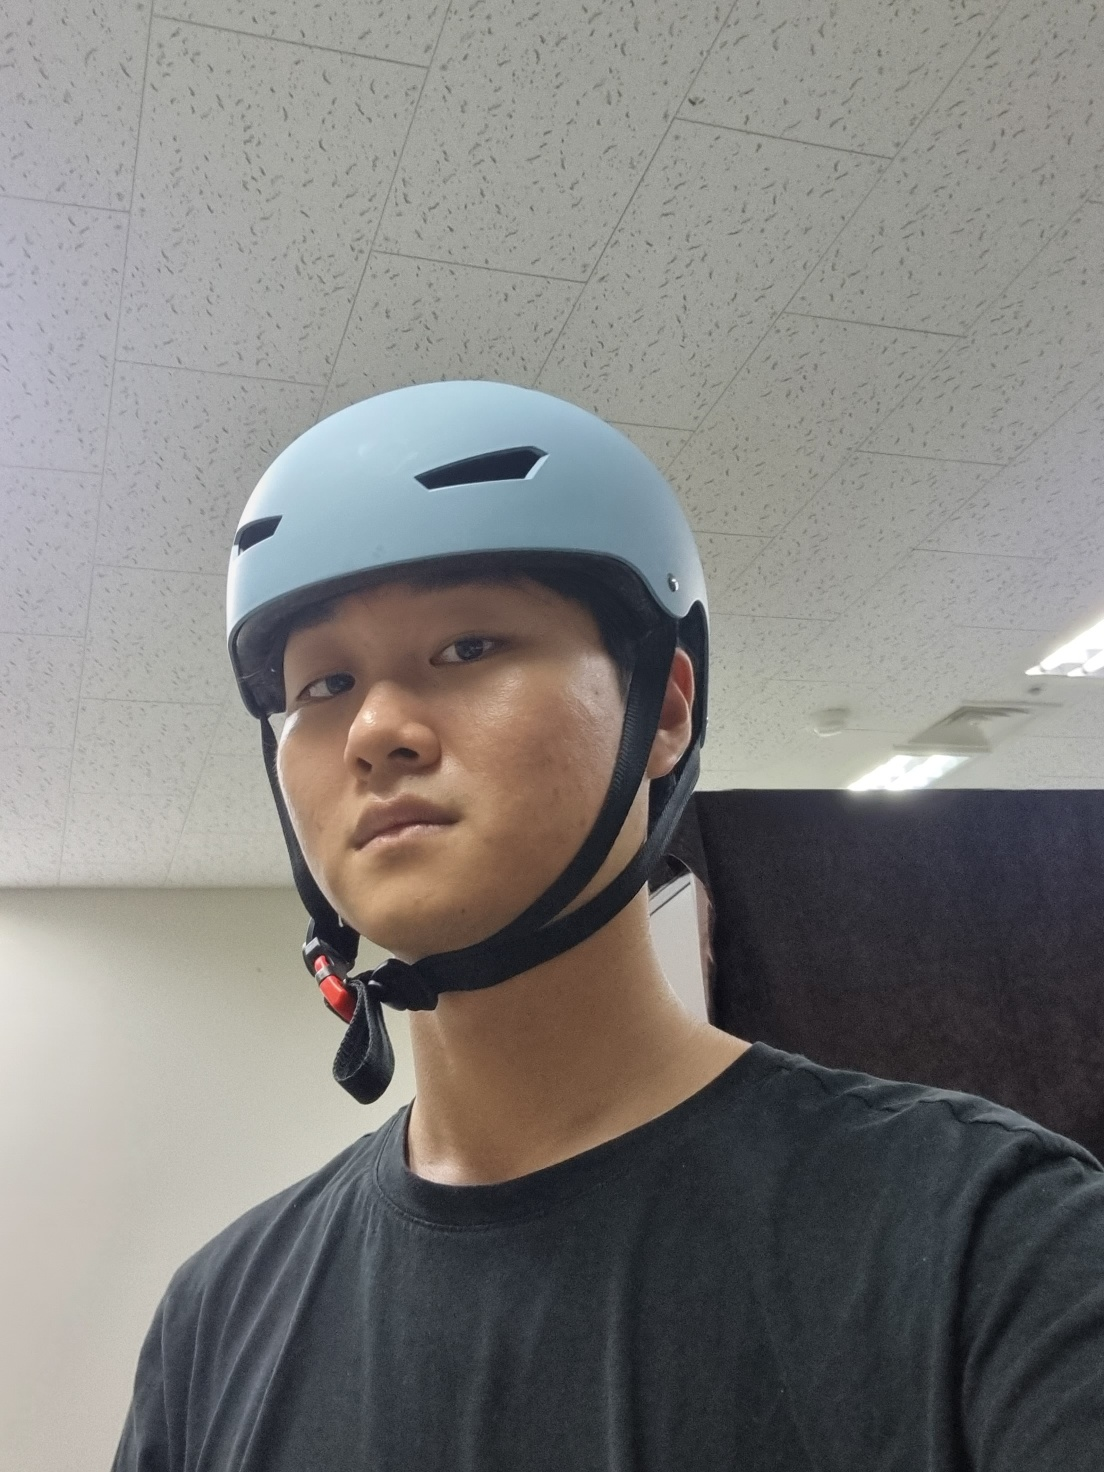Helmet: (141, 343, 742, 1028)
